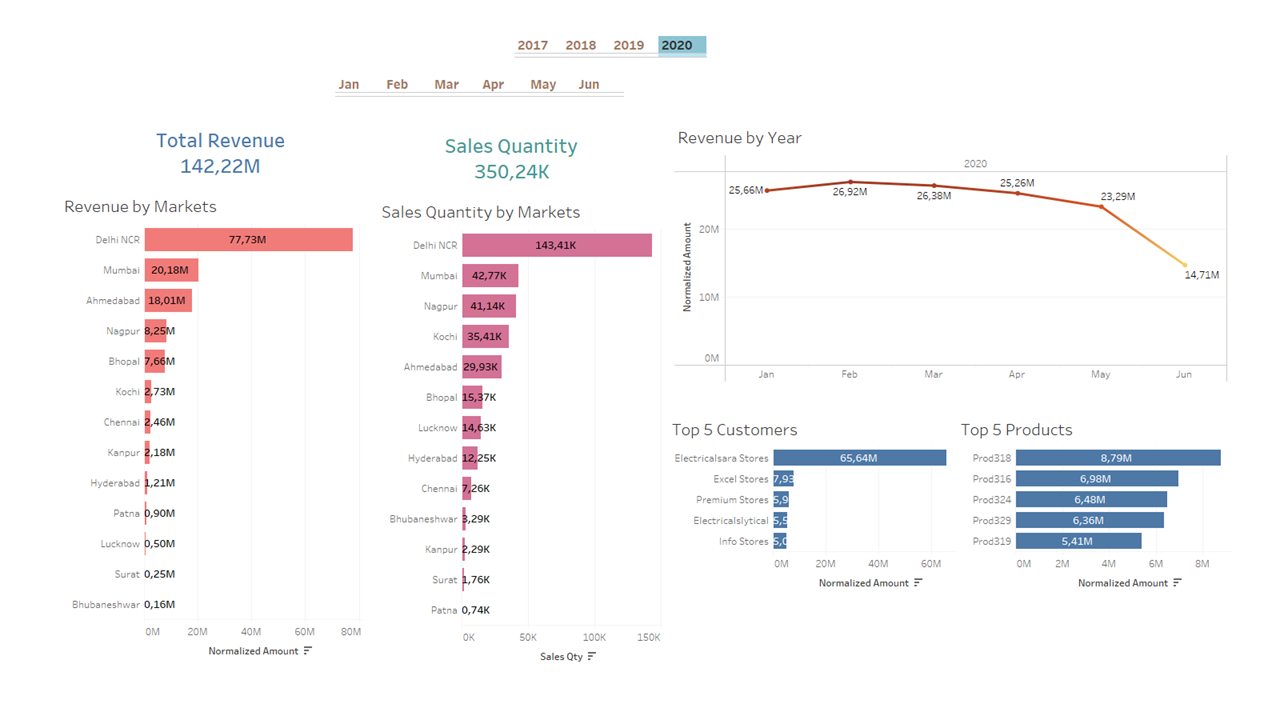

What the dashboard file says about the page in this screenshot:
{"tool":"tableau","page":{"name":"Dashboard - Revenue Analysis","canvas":[1500,900],"ordinal":1},"visuals":[{"type":"worksheet","title":"Year","mark":"Automatic","cols":["cy_date"],"box":[593,30,260,47]},{"type":"worksheet","title":"Month","mark":"Automatic","cols":["cy_date"],"box":[369,79,744,57]},{"type":"worksheet","title":"Revenue","mark":"Automatic","box":[136,143,201,98]},{"type":"worksheet","title":"Quantity","mark":"Automatic","box":[500,150,187,105]},{"type":"worksheet","title":"Revenue by Year","mark":"Automatic","rows":["Calculation_1449596146905944064"],"cols":["cy_date","cy_date"],"box":[793,151,691,327]},{"type":"worksheet","title":"Revenue by Markets","mark":"Automatic","rows":["markets_name"],"cols":["Calculation_1449596146905944064"],"box":[26,237,378,634]},{"type":"worksheet","title":"Sales Quantity by Markets","mark":"Automatic","rows":["markets_name"],"cols":["sales_qty"],"box":[423,244,354,632]},{"type":"worksheet","title":"Top 5 Customers","mark":"Automatic","rows":["custmer_name"],"cols":["Calculation_1449596146905944064"],"box":[786,516,358,230]},{"type":"worksheet","title":"Top 5 Products","mark":"Automatic","rows":["product_code"],"cols":["Calculation_1449596146905944064"],"box":[1147,516,342,235]}]}

Visuals, with their boxes on the page's 1500x900 design canvas (x1, y1, x2, y2). These are canvas units, not pixel positions in the 1280x720 screenshot, which may show the page scaled, cropped or inside an application window:
"Year" worksheet: l=593, t=30, r=853, b=77
"Month" worksheet: l=369, t=79, r=1113, b=136
"Revenue" worksheet: l=136, t=143, r=337, b=241
"Quantity" worksheet: l=500, t=150, r=687, b=255
"Revenue by Year" worksheet: l=793, t=151, r=1484, b=478
"Revenue by Markets" worksheet: l=26, t=237, r=404, b=871
"Sales Quantity by Markets" worksheet: l=423, t=244, r=777, b=876
"Top 5 Customers" worksheet: l=786, t=516, r=1144, b=746
"Top 5 Products" worksheet: l=1147, t=516, r=1489, b=751
